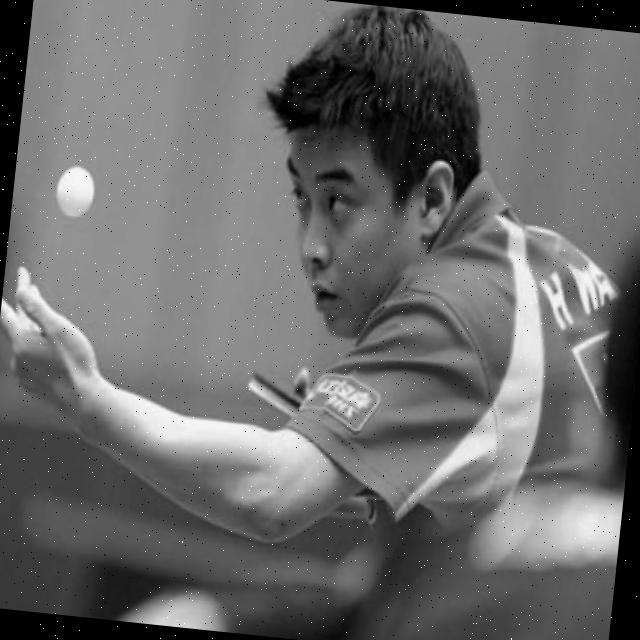ping-pong-ball: (46, 154, 100, 223)
